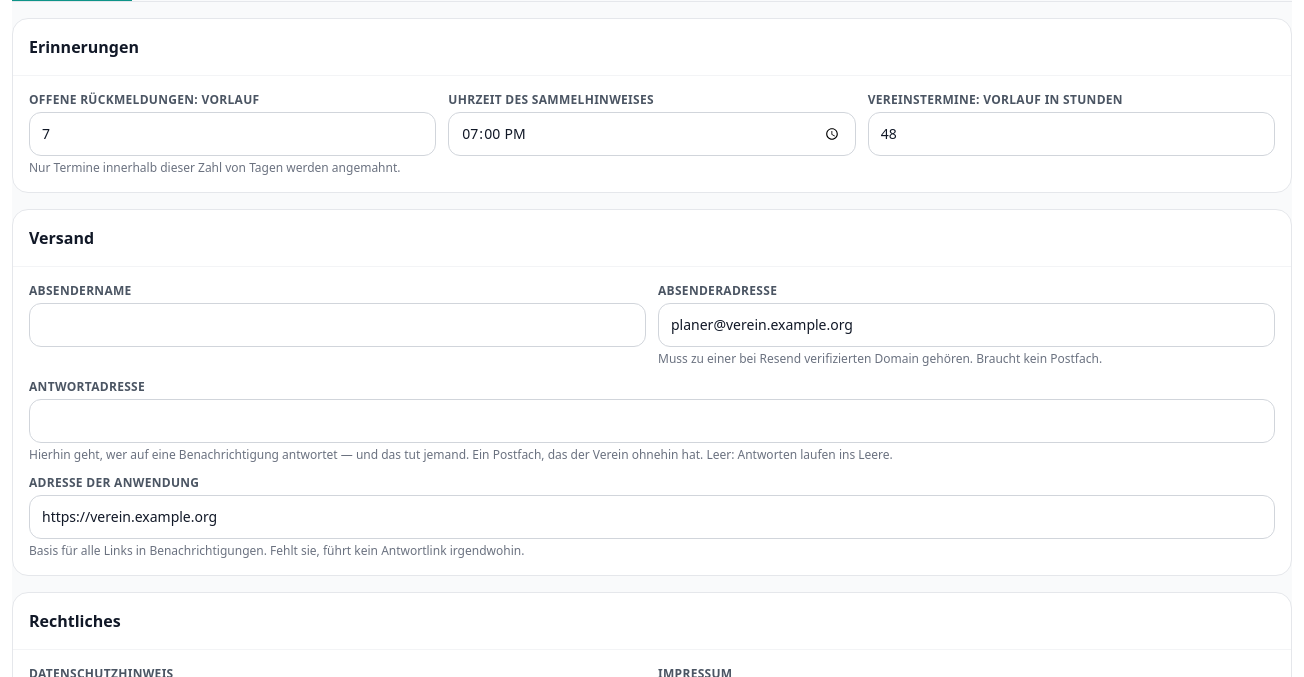
Scenario: AdminPage › lässt einen Vorlauf nicht durch, der keine Zahl ist
The width and height of the screenshot is (1304, 677).
Replace the text in the field labelled "Offene Rückmeldungen: Vorlauf" with "bald". click: (233, 134)
box: [29,112,436,156]
(page scrolled)
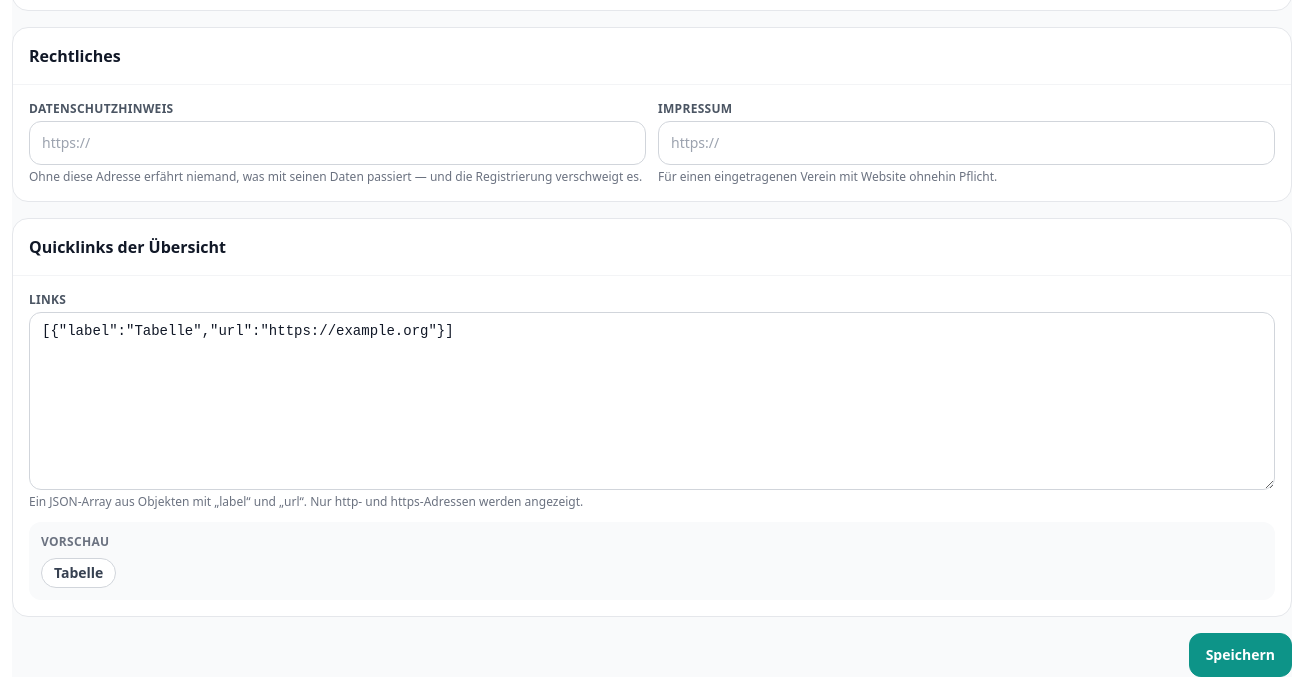
Click the button "Speichern". click: click(1240, 655)
box: [1189,633,1292,676]
(page scrolled)
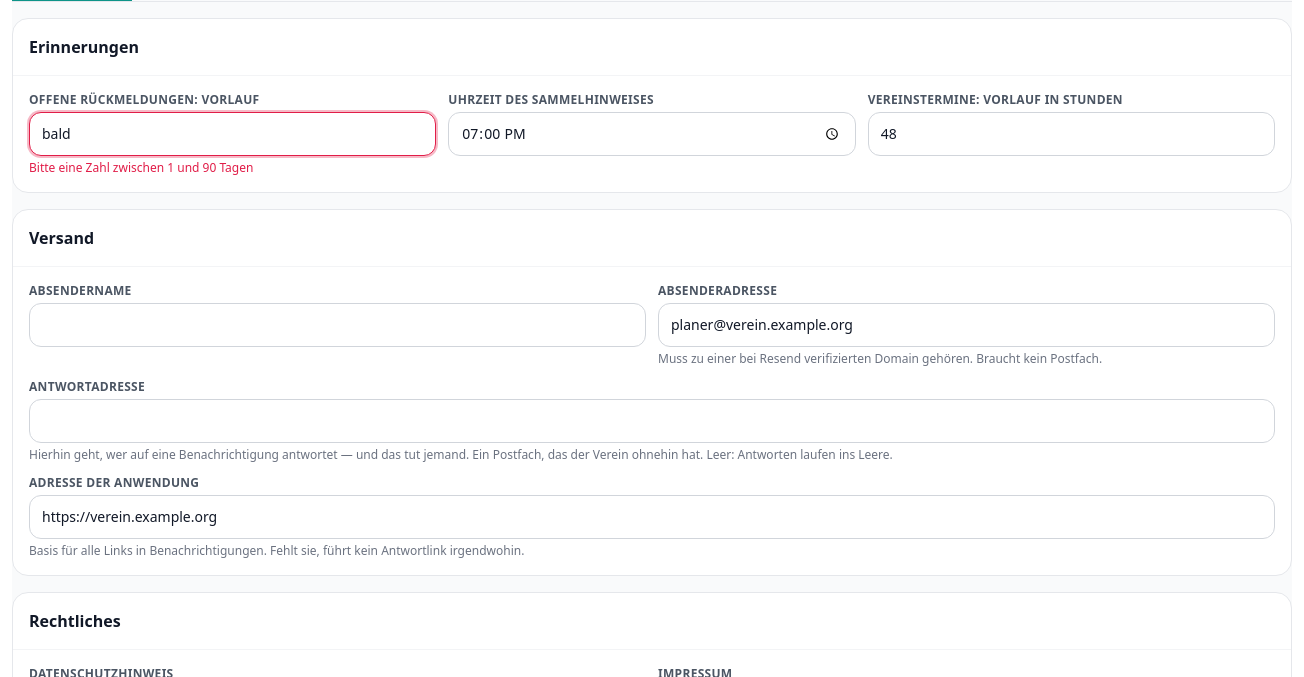
Expected: the text "Bitte eine Zahl zwischen 1 und 90 Tagen" is shown, [29,159,253,176]
